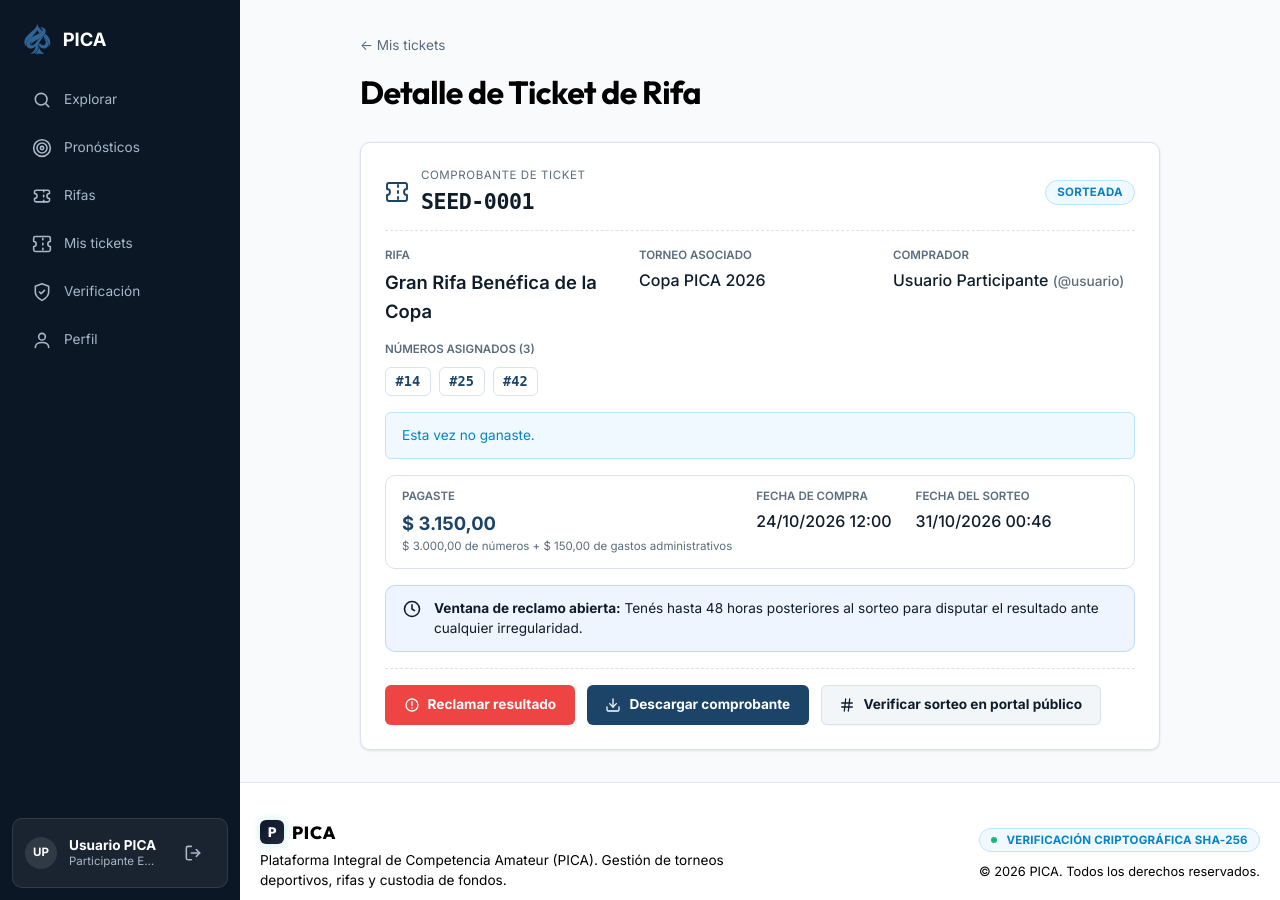
Test: HU-506 / T506-2: Reclamo de resultado de rifa en el ticket › Criterio 1: Si el back rechaza por plazo vencido, se muestra el error
Expected: the text "Gran Rifa Benéfica de la Copa" is shown, [385, 268, 627, 325]
Click the button "Reclamar resultado": (480, 704) [385, 684, 575, 724]
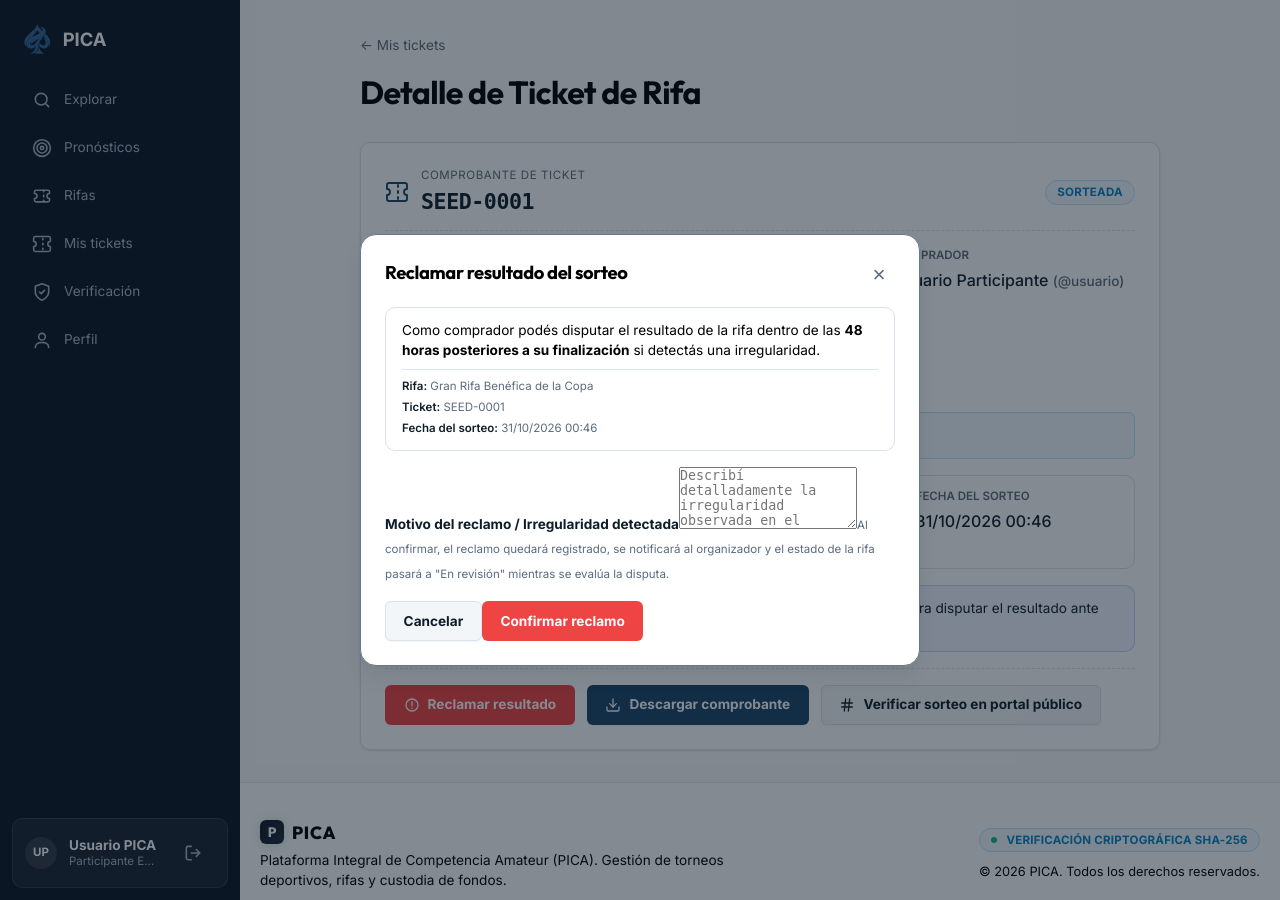
In the text box labelled "Motivo del reclamo / Irregularidad detectada": (768, 498) [679, 467, 857, 529], type "Hubo una inconsistencia"
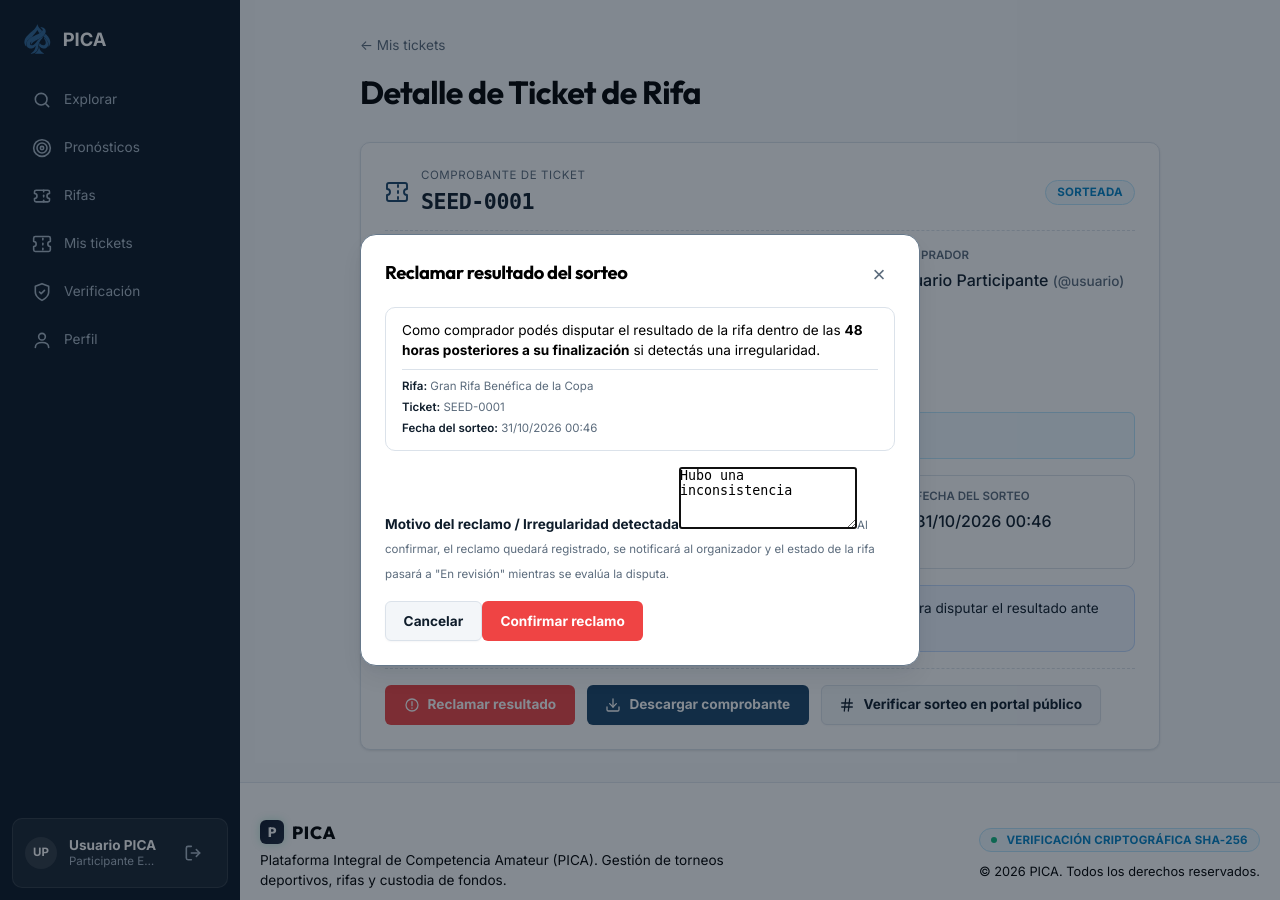
Click the button "Confirmar reclamo": (563, 621) [482, 601, 643, 641]
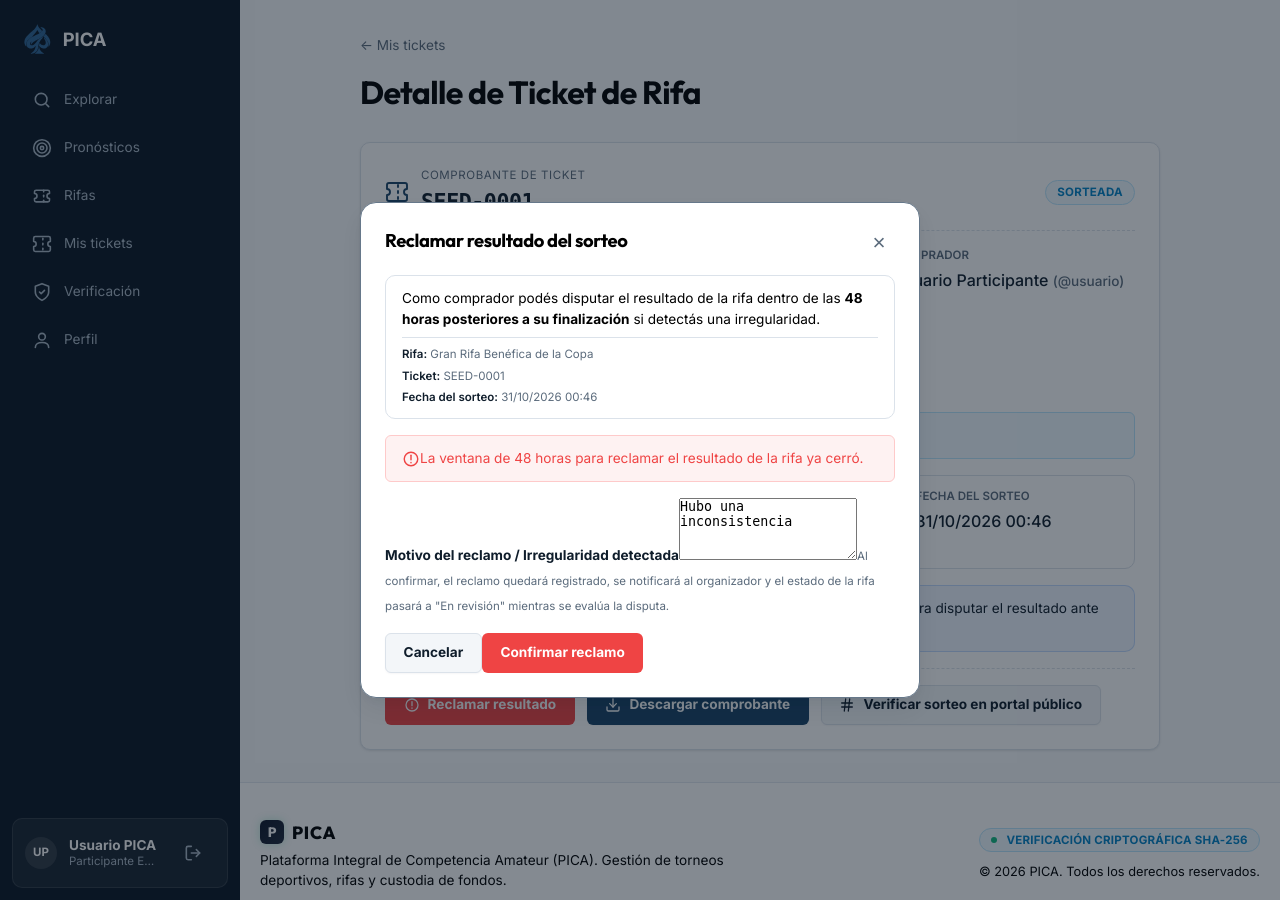
Now the message reads "La ventana de 48 horas para reclamar el resultado de la rifa ya cerró.", box [420, 450, 864, 466]
